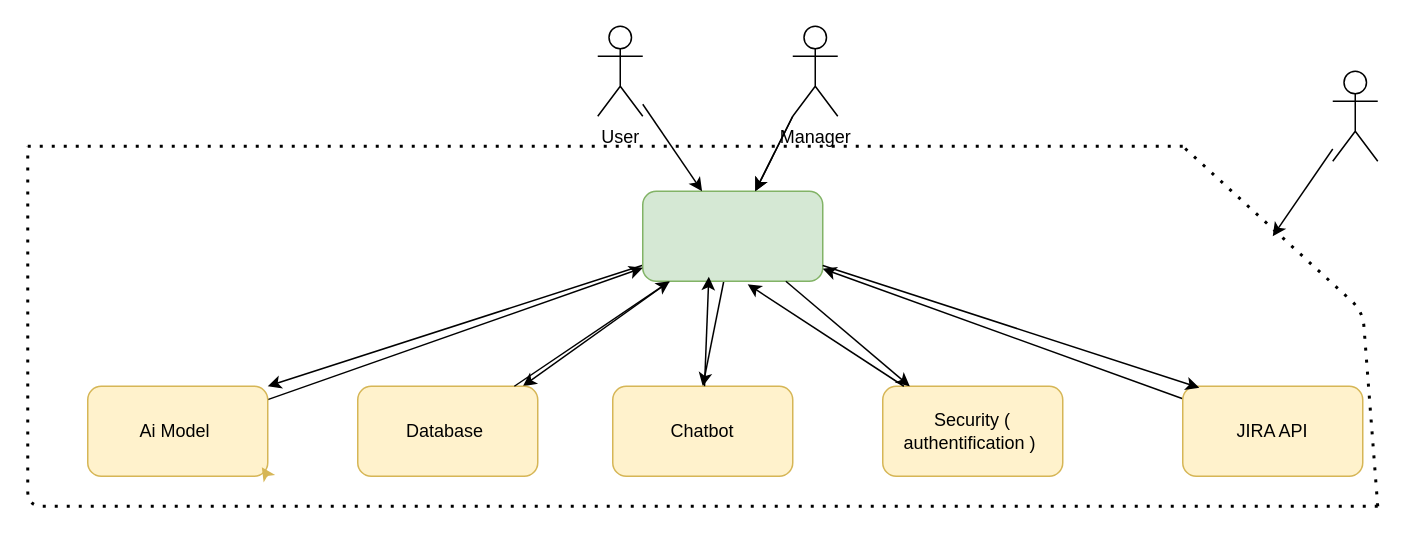
Some shapes in this 1425 by 536 pixel diagram are drawn without their labels. The centre of each missing label's shape, as x and y in pixels:
App Frontend: the point at 732,235
SYSADMN: the point at 1354,115
